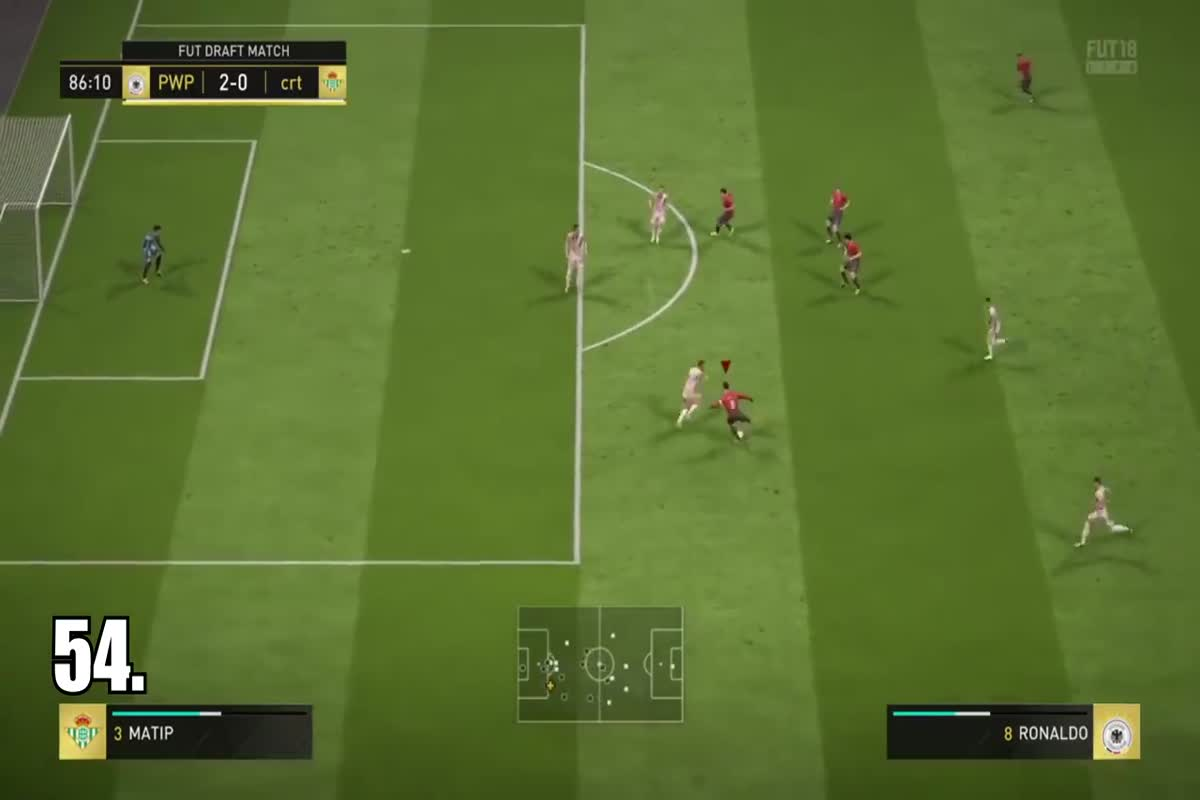ball: (729, 425, 757, 445)
